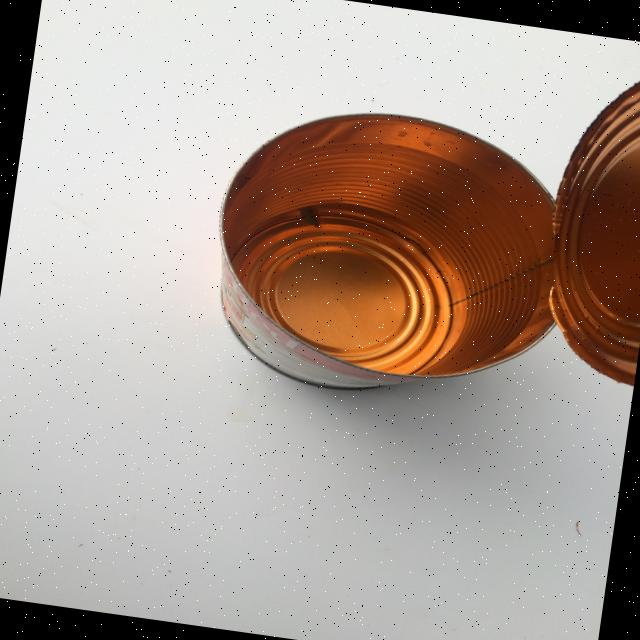metal: (197, 90, 583, 419)
